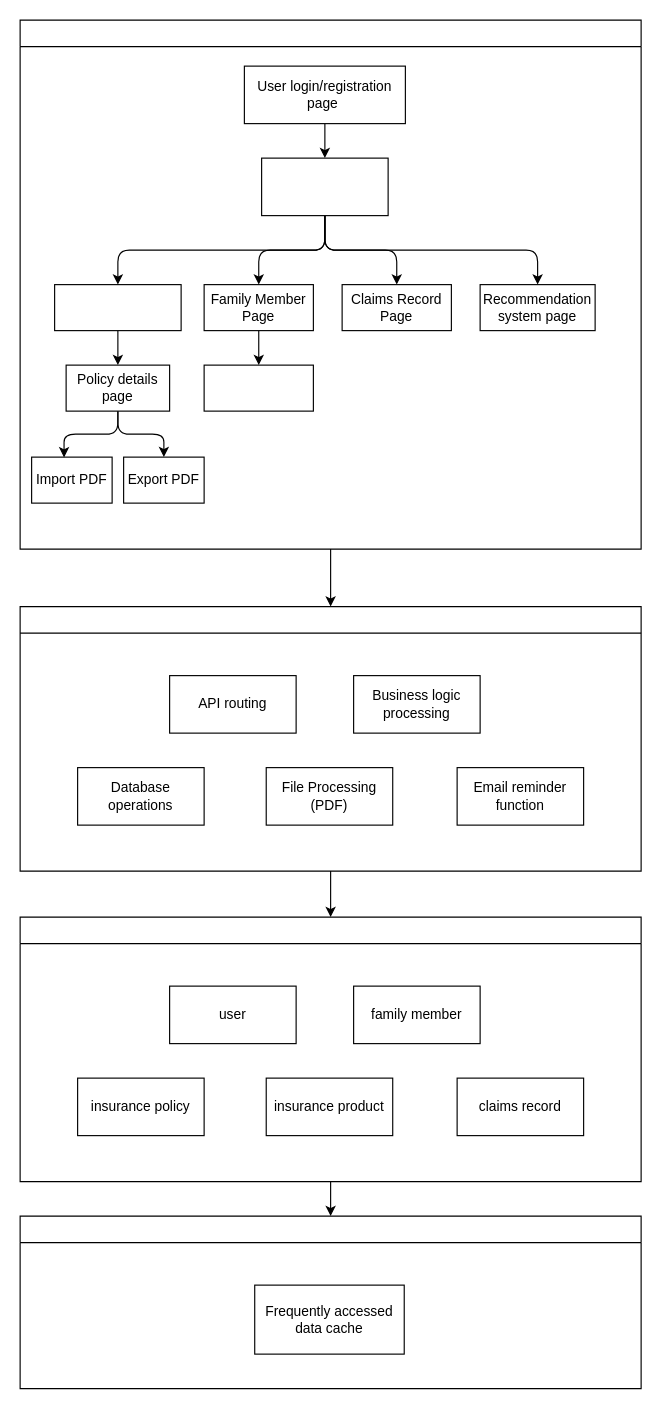
Some shapes in this 661 by 1409 pixel diagram are drawn without their labels. The box of each missing label's shape, as (x1, y1, x2, y2) in pixels:
Back end (Flask): (19, 605, 641, 871)
Cache（Redis）: (19, 1215, 641, 1389)
Data statistics page: (203, 364, 313, 411)
Database (MySQL): (19, 916, 641, 1182)
Front end（Vue.js）: (19, 19, 641, 549)
Payment reminder page: (260, 157, 388, 216)
Policy information page: (53, 283, 181, 331)
